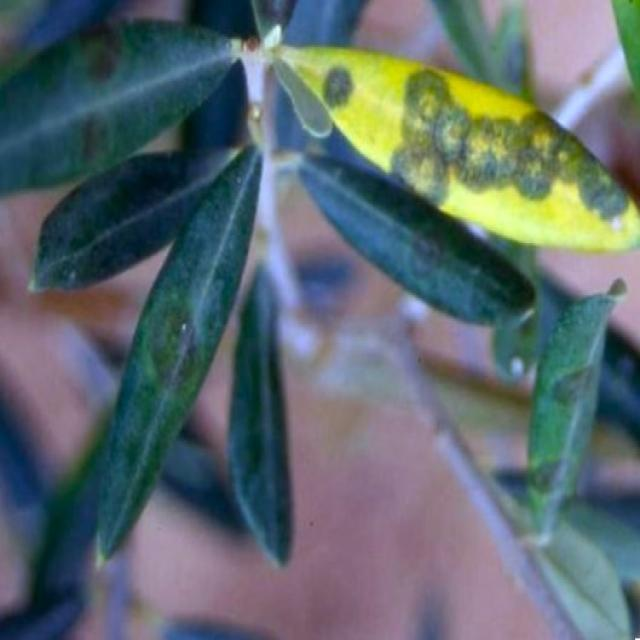Peacock Eye: (272, 45, 639, 251), (97, 147, 260, 557), (0, 19, 235, 194), (299, 156, 534, 322), (527, 280, 625, 531)
